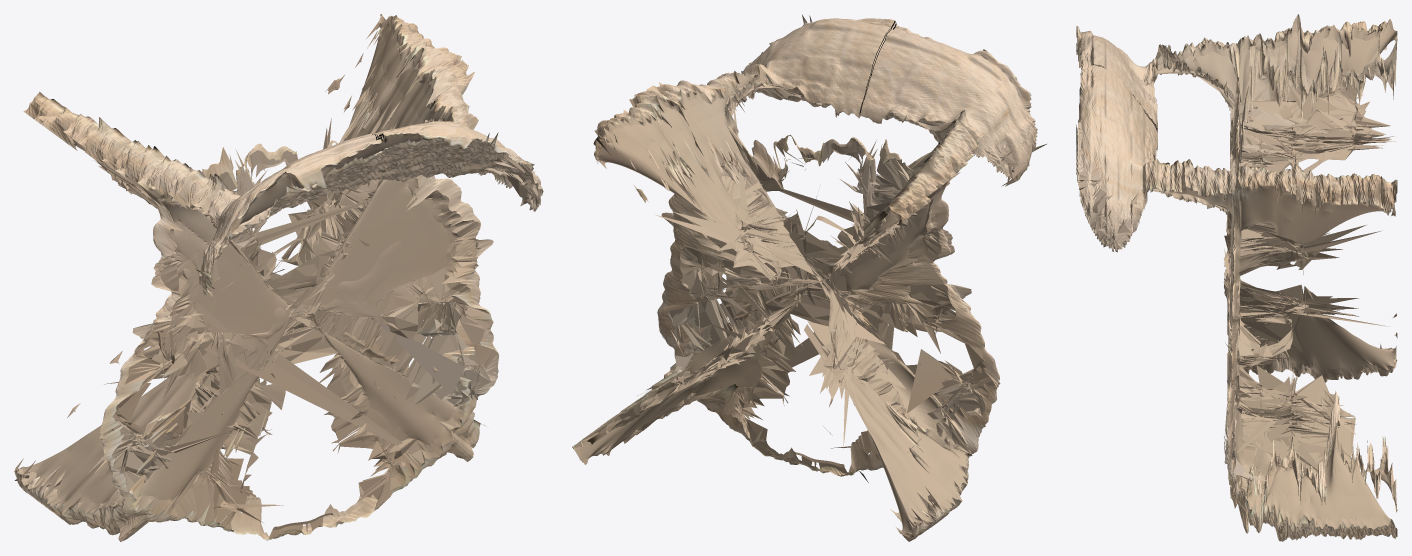
File: mesh_inpaint.glb
3 views of the same model, side by side, from view 1: azimuth 30°, elevation 25°; view 2: azimuth 150°, elevation 25°; view 3: azimuth 270°, elevation 25° (orthographic). The views are drawn at different scales.
Visible parts, largest first — view 1: fill, ipn; view 2: fill, ipn; view 3: fill, ipn.
Part boxes in pixels (<box>): fill: <box>18,14,543,539</box>; ipn: <box>14,14,543,541</box>; fill: <box>573,42,1037,535</box>; ipn: <box>572,14,1046,541</box>; fill: <box>1076,15,1397,536</box>; ipn: <box>1076,14,1397,541</box>.
Size of the model in its own units: 1.53 by 1.67 by 1.15.
Materials: 2 (1 with a texture image).
